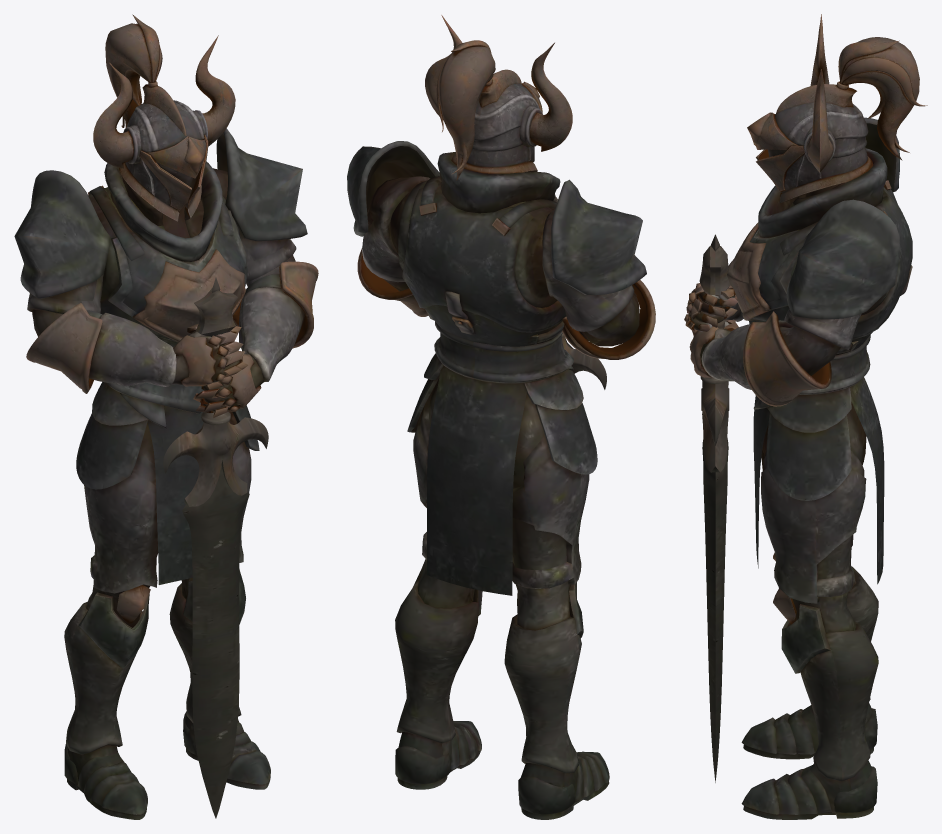
3 views of the same model, side by side, from view 1: azimuth 30°, elevation 25°; view 2: azimuth 150°, elevation 25°; view 3: azimuth 270°, elevation 25° (orthographic). The views are drawn at different scales.
Visible parts, largest first — view 1: SM_Statue_BlackKnightSword_01_V1_LOD0; view 2: SM_Statue_BlackKnightSword_01_V1_LOD0; view 3: SM_Statue_BlackKnightSword_01_V1_LOD0.
Part boxes in pixels (x1,y1,x2,y2): SM_Statue_BlackKnightSword_01_V1_LOD0: (14,14,318,819); SM_Statue_BlackKnightSword_01_V1_LOD0: (347,15,655,819); SM_Statue_BlackKnightSword_01_V1_LOD0: (684,14,927,819).
Size of the model in its own units: 1.69 by 4.18 by 1.24.
Materials: 2 (2 with a texture image).
